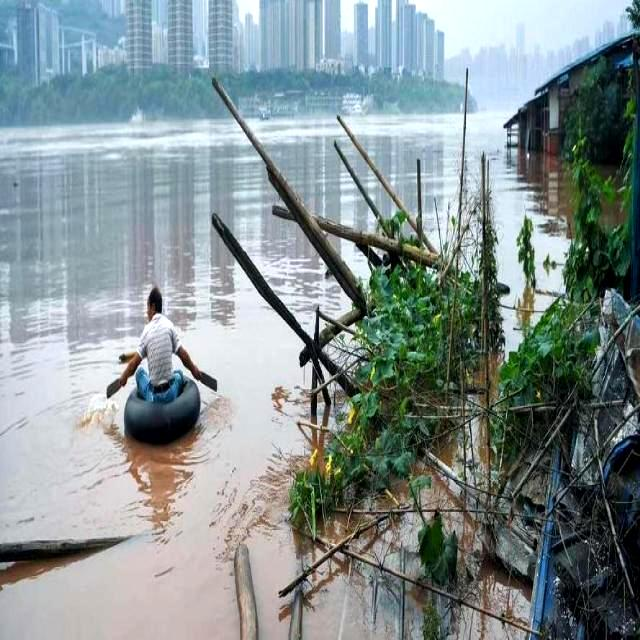civilian: (123, 278, 197, 407)
